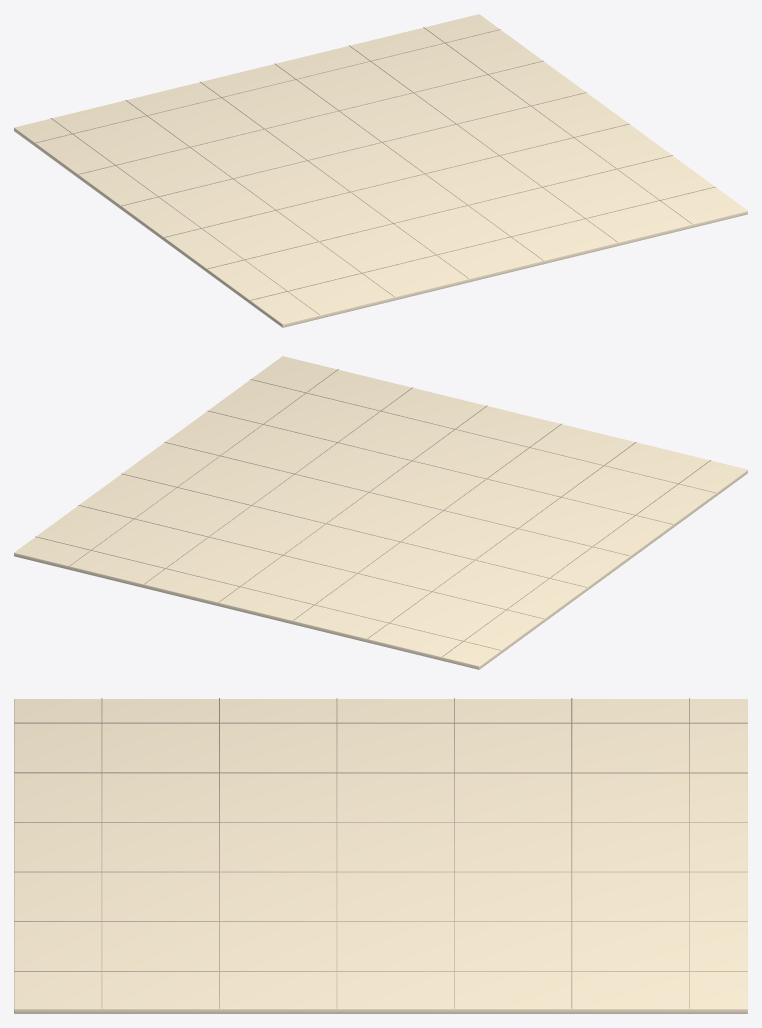
The model's file is castle_district_garden_purified.glb.
3 views of the same model, one above another, from view 1: azimuth 30°, elevation 25°; view 2: azimuth 150°, elevation 25°; view 3: azimuth 270°, elevation 25° (orthographic). The views are drawn at different scales.
Visible parts, largest first — view 1: castle_district_garden_purified_surface; view 2: castle_district_garden_purified_surface; view 3: castle_district_garden_purified_surface.
Boxes of the visible parts, x1,y1,x2,y2 form: castle_district_garden_purified_surface: [14, 14, 747, 327]; castle_district_garden_purified_surface: [14, 356, 747, 669]; castle_district_garden_purified_surface: [14, 698, 747, 1013].
Size of the model in its own units: 25 by 0.2175 by 25.
